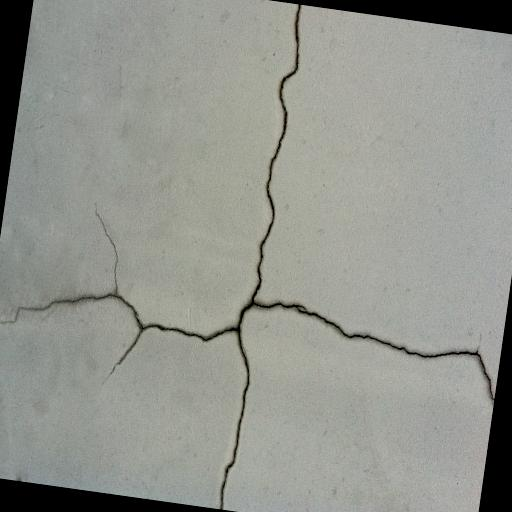spalling: (212, 9, 309, 502), (16, 197, 226, 380), (259, 294, 497, 415)
